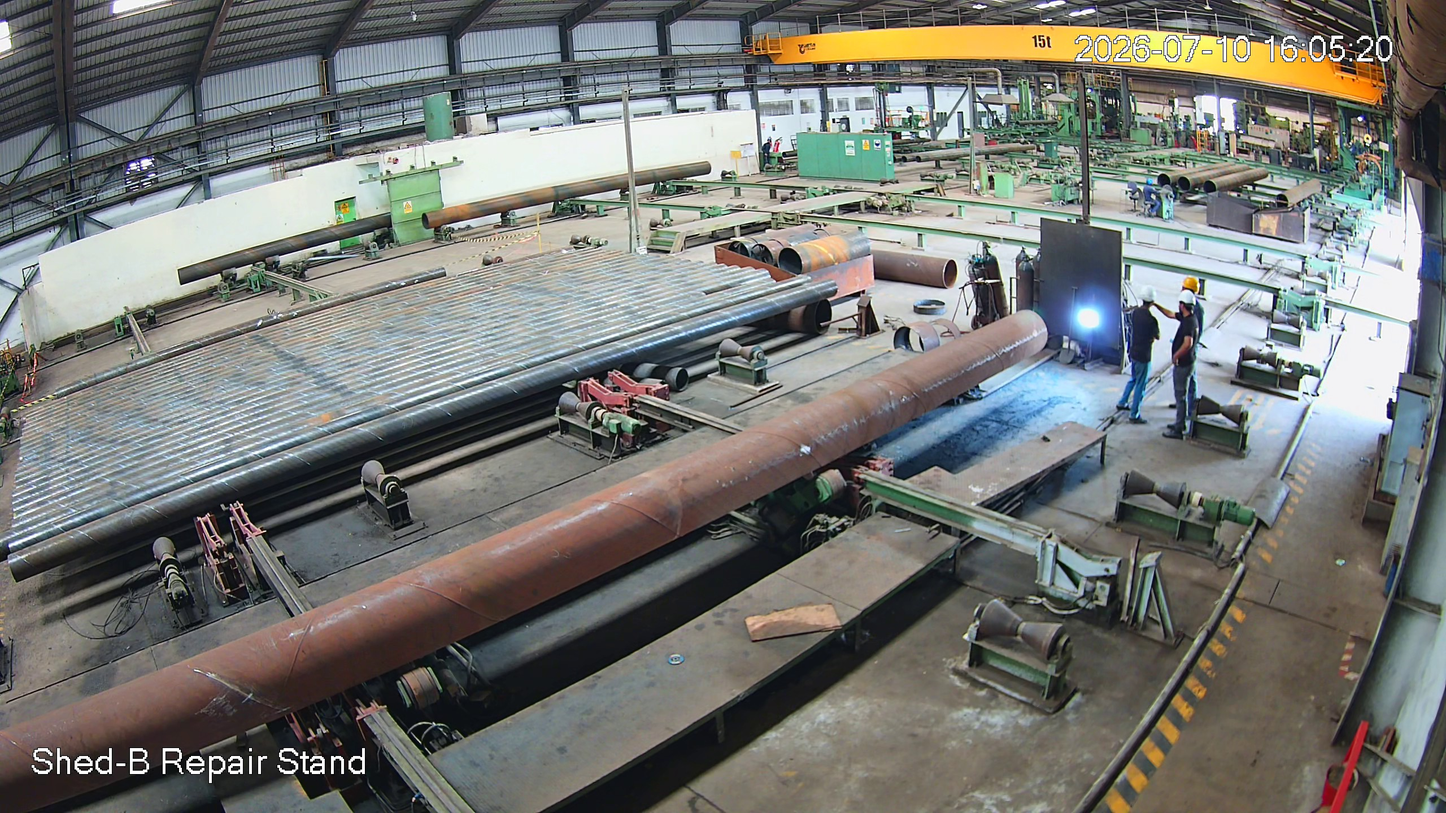Helmet: (1173, 289, 1199, 335), (1133, 281, 1162, 318)
Person: (1162, 291, 1206, 447), (1118, 287, 1165, 427)
